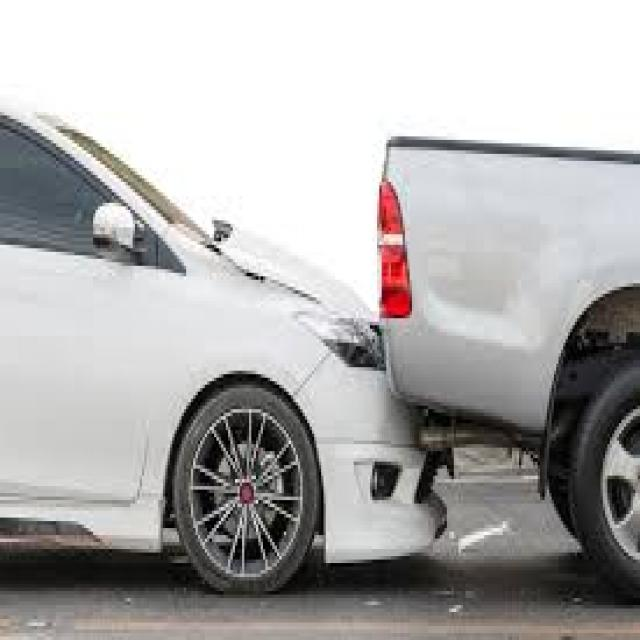accident: (185, 85, 528, 640)
